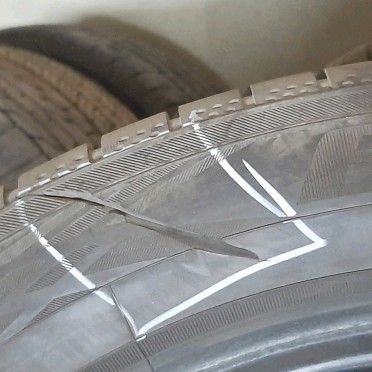cut: (28, 187, 262, 263)
